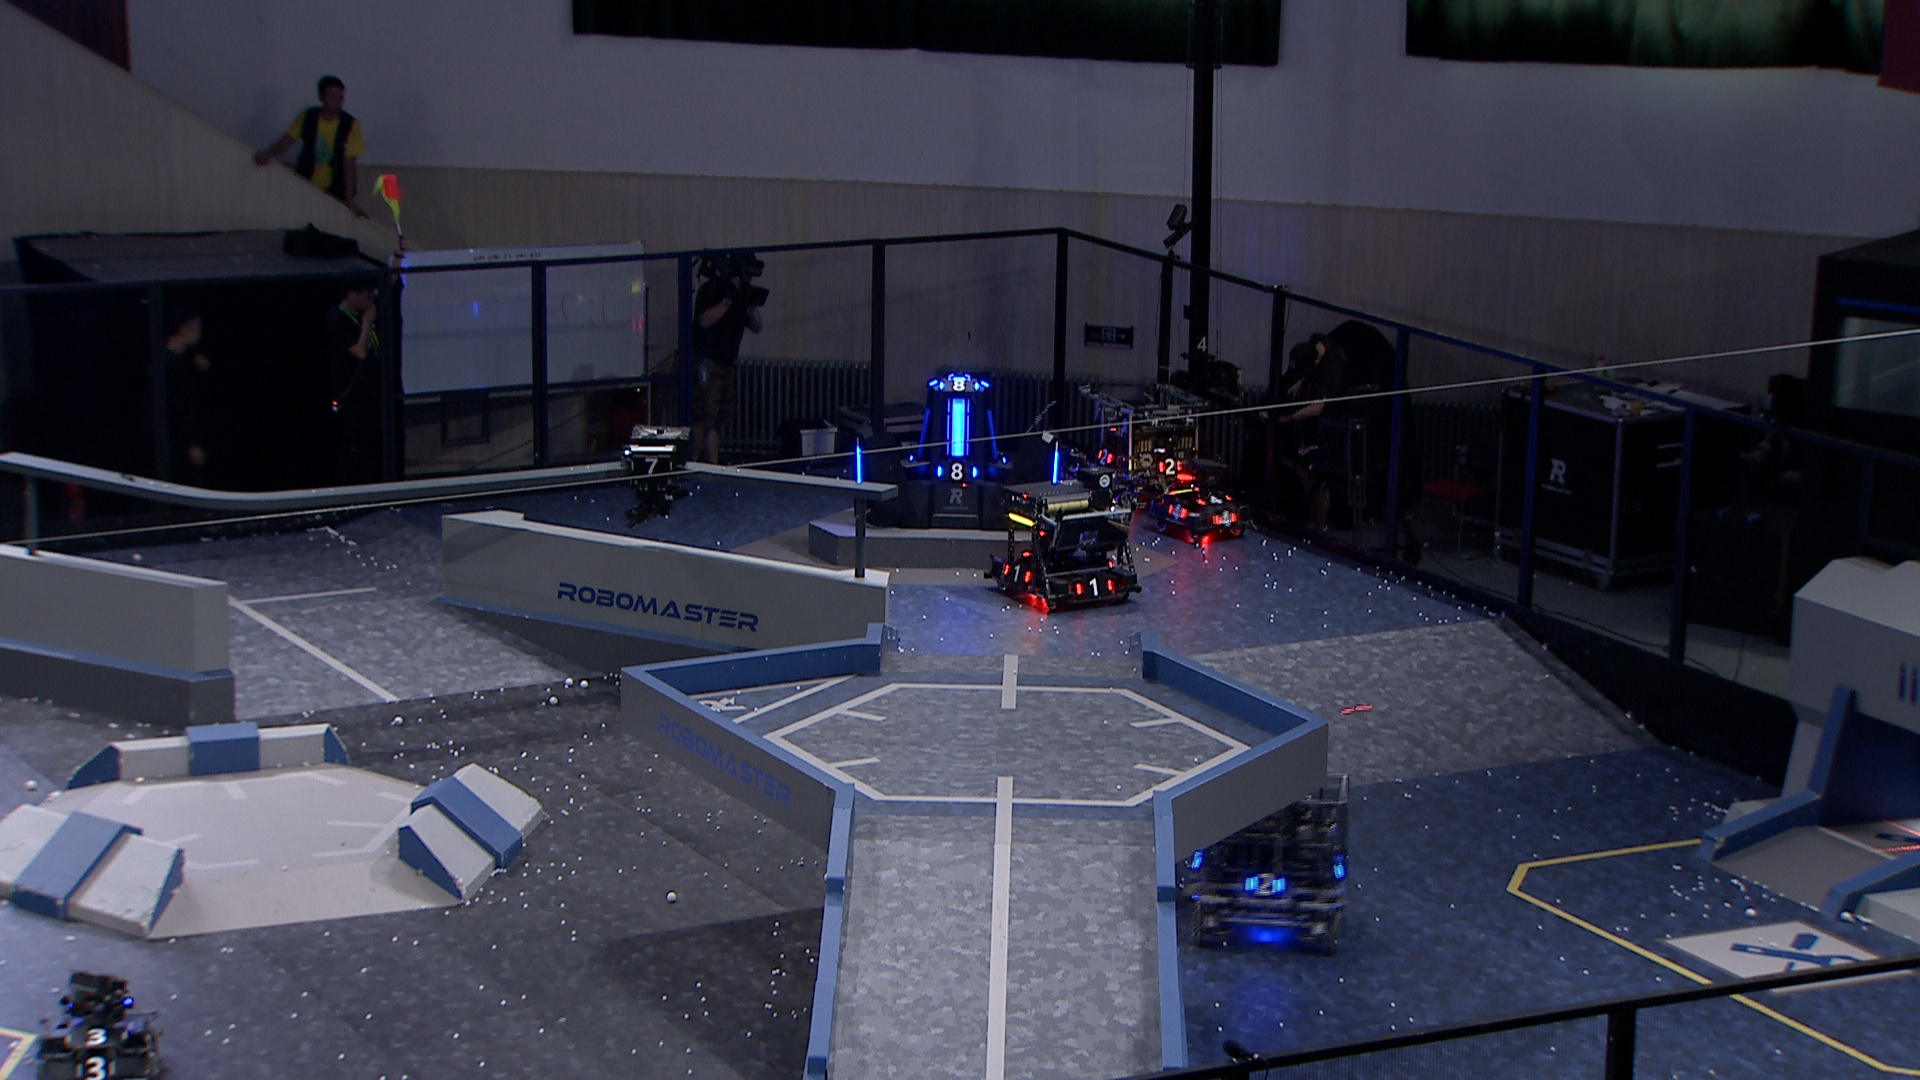armor: (65, 1022, 131, 1048), (949, 394, 971, 462), (1245, 870, 1286, 899), (71, 1054, 116, 1080), (626, 454, 675, 477), (913, 407, 934, 462), (931, 462, 981, 484), (1072, 576, 1116, 599), (982, 406, 1000, 462), (1000, 560, 1034, 588), (935, 373, 981, 392), (138, 1029, 162, 1059), (1197, 488, 1233, 508), (851, 442, 864, 487), (1212, 504, 1238, 526), (1048, 443, 1062, 485), (1155, 458, 1182, 476), (1166, 502, 1188, 524), (1095, 447, 1116, 465)
base: (847, 368, 1069, 534)
car: (1176, 764, 1356, 951), (984, 476, 1143, 613), (1079, 377, 1211, 513), (32, 968, 171, 1080), (1149, 462, 1261, 546)
watcher: (615, 419, 699, 526)
